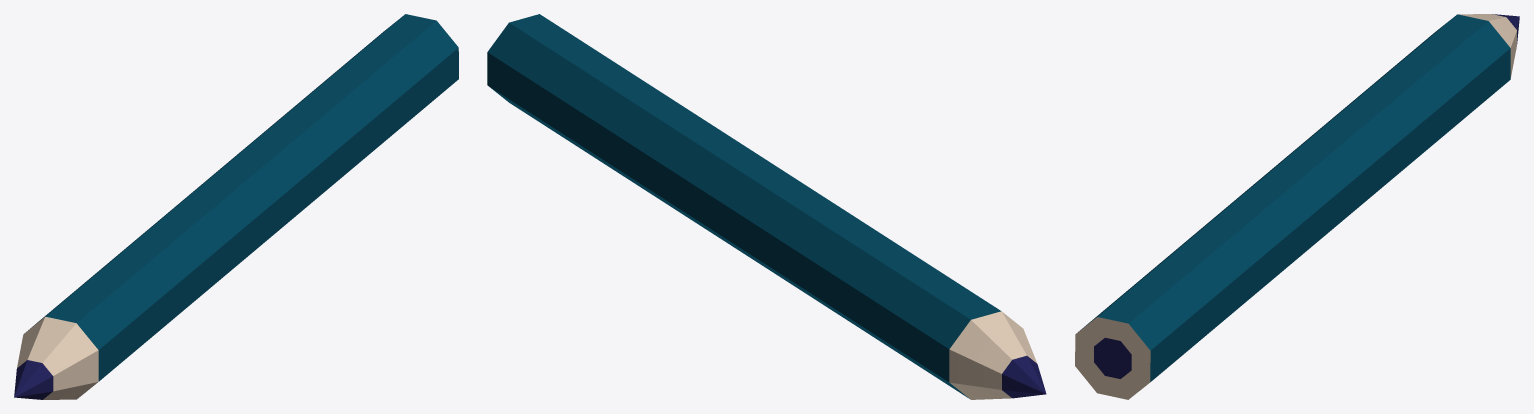
The picture shows the model from 3 angles, left to right: view 1: azimuth 90°, elevation 25°; view 2: azimuth 150°, elevation 25°; view 3: azimuth 270°, elevation 25°; orthographic projection. The views are drawn at different scales.
Visible parts, largest first — view 1: Joint_0_Object_0; view 2: Joint_0_Object_0; view 3: Joint_0_Object_0.
Part boxes in pixels (left/top/right/bottom): Joint_0_Object_0: left=14, top=14, right=458, bottom=399; Joint_0_Object_0: left=487, top=14, right=1046, bottom=399; Joint_0_Object_0: left=1075, top=14, right=1519, bottom=399.
Bounding box in the file's own units: 196 × 20 × 105.
